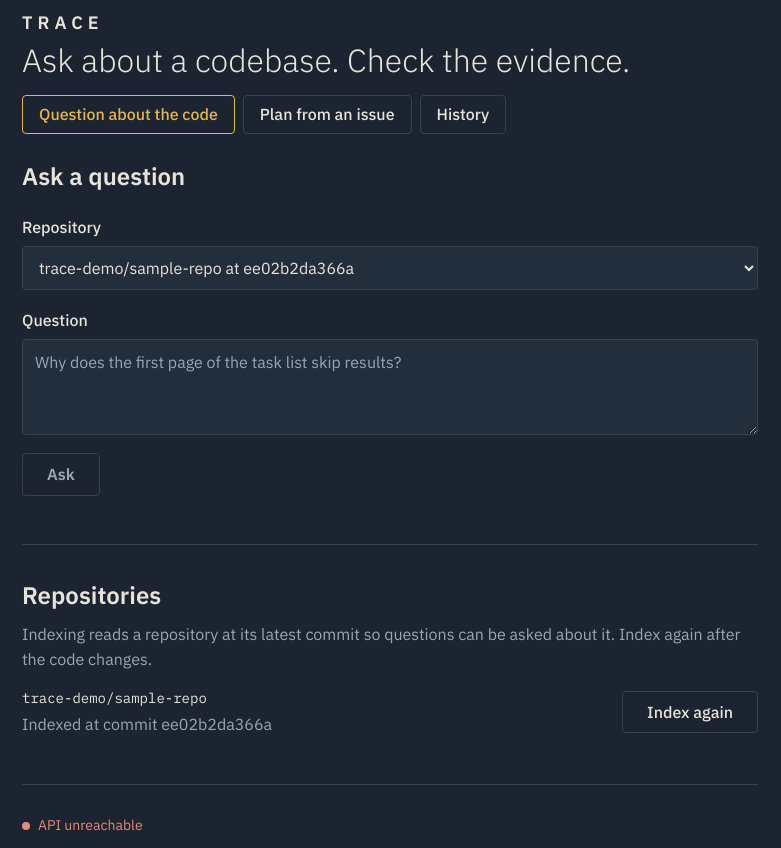
Scenario: issue list › shows the API message and reference for an error it has no wording for
Click the button "Plan from an issue" at (327, 115), box 243,95 -> 412,134
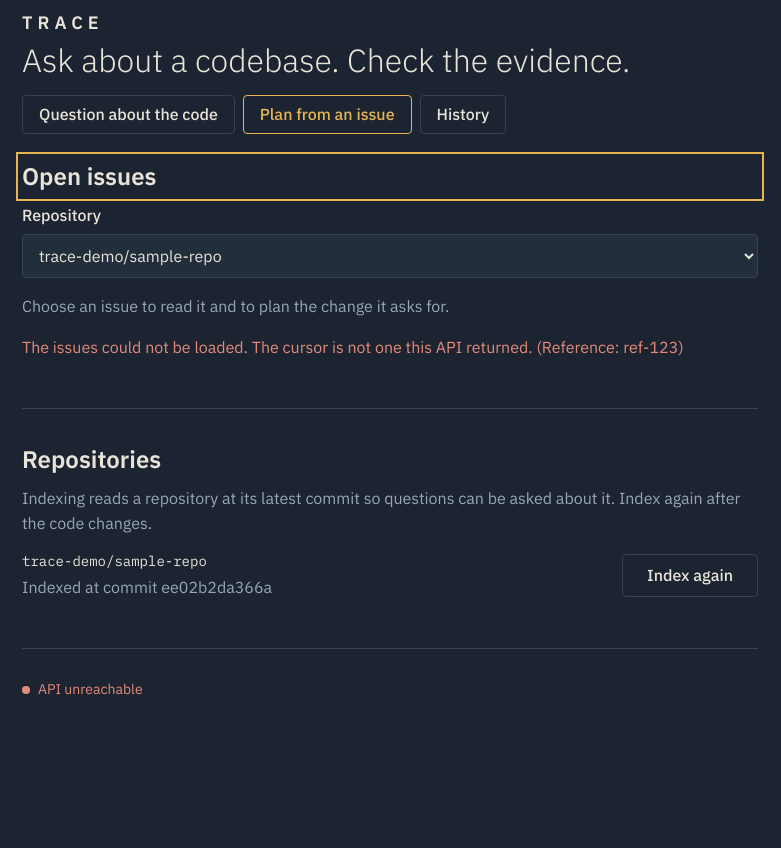
Now the 1st message shows "The issues could not be loaded. The cursor is not one this API returned. (Reference: ref-123)", box 22,337 -> 684,357
